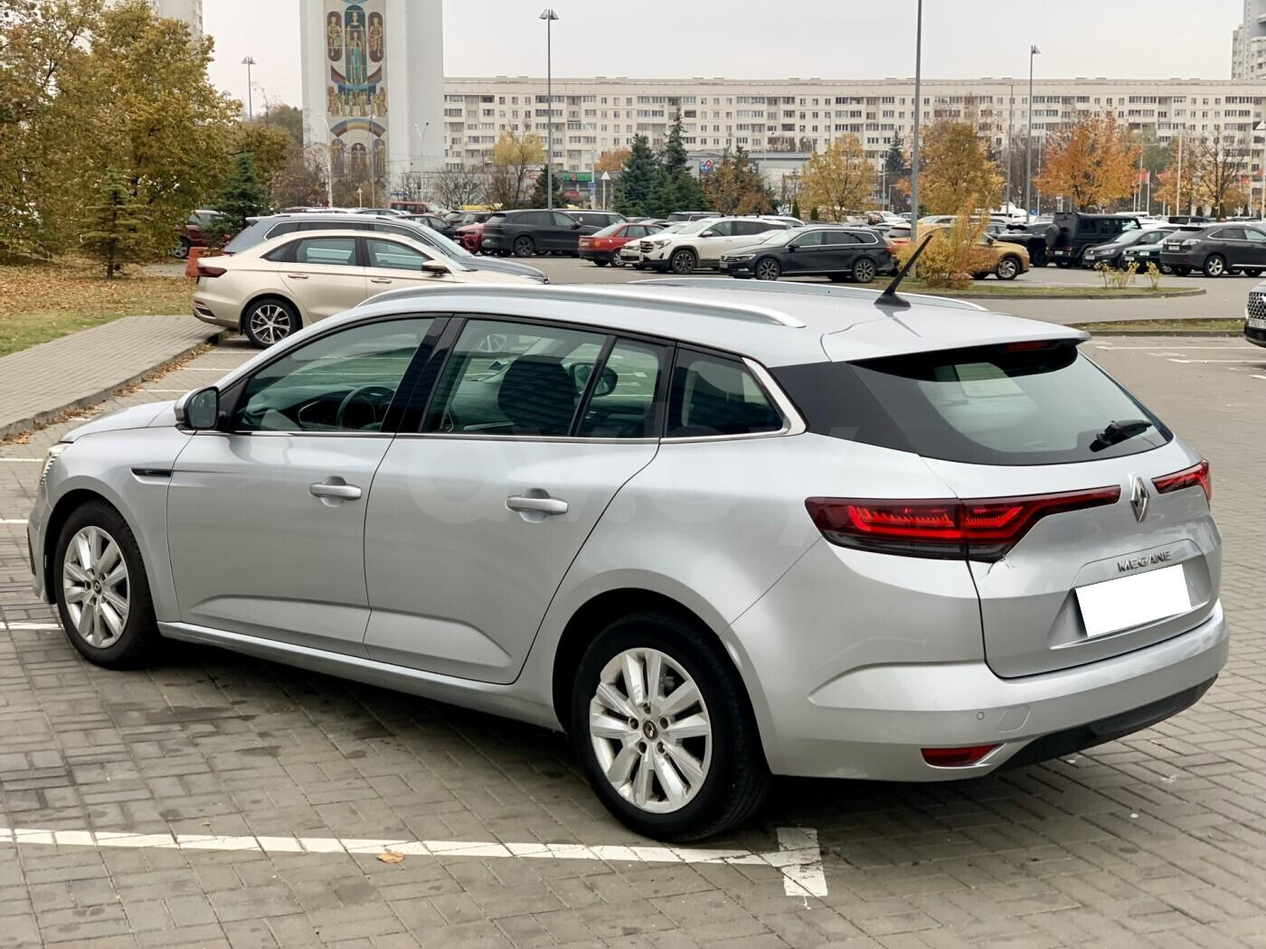Megane_2020: (23, 274, 1226, 825)
